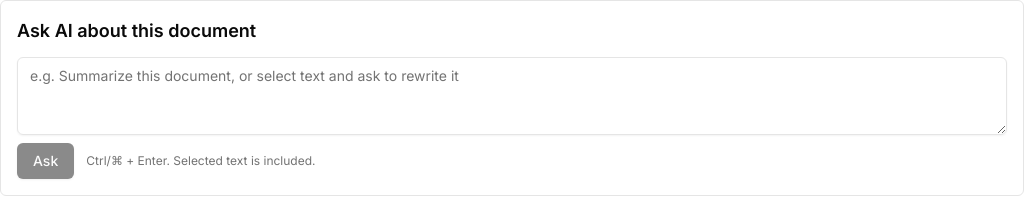
Test case: shows a loading state while waiting for the answer
Replace the text in the text box with "Summarize this" at (512, 96), box [17,57,1007,135]
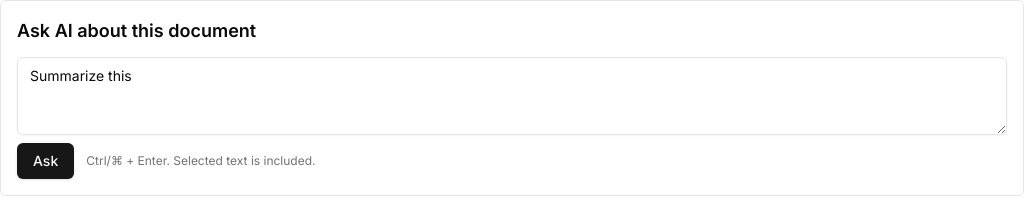
Click the button "Ask" at (46, 161), box [17,143,74,179]
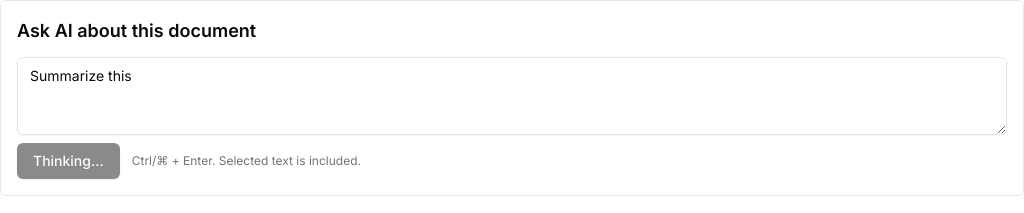
Expected: the button "Thinking…" is disabled, [17,143,120,179]
